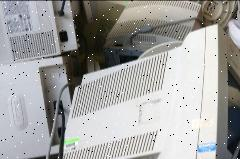electronic: (48, 19, 239, 159)
